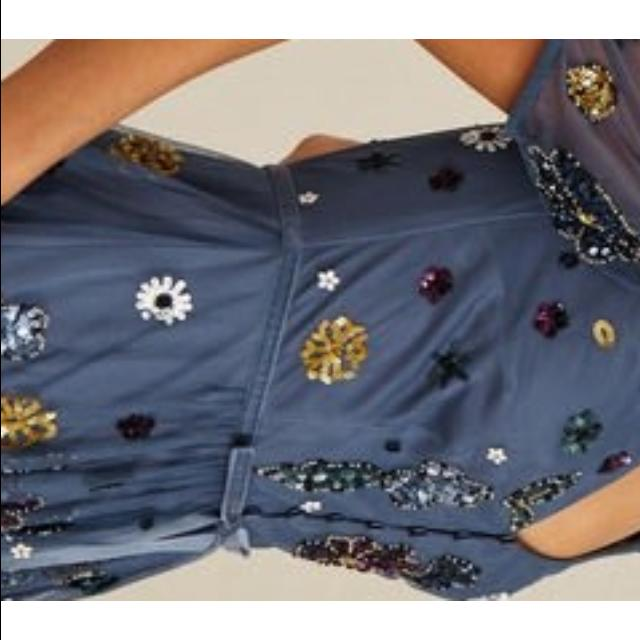polyester: (48, 156, 640, 454)
